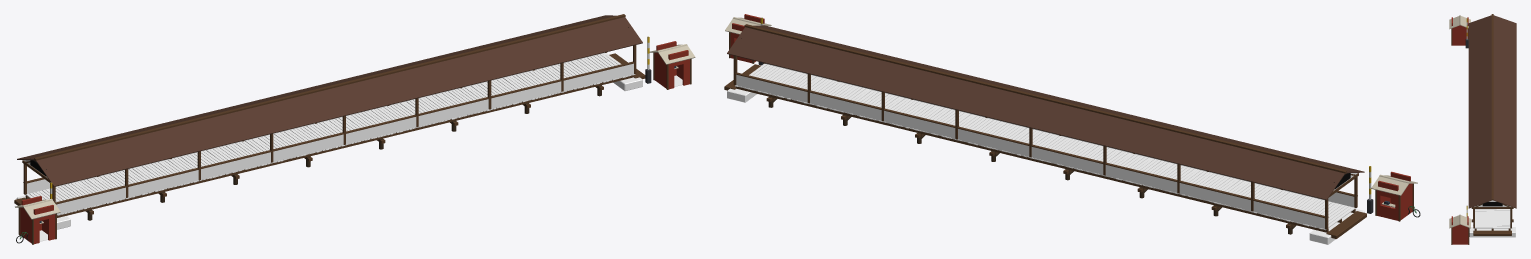
Rendered from tf-bridge-p3.glb.
3 renders of one model, left to right at view 1: azimuth 30°, elevation 25°; view 2: azimuth 150°, elevation 25°; view 3: azimuth 270°, elevation 25°, orthographic. The views are drawn at different scales.
Visible parts, largest first — view 1: tf-bridge-p3; view 2: tf-bridge-p3; view 3: tf-bridge-p3.
Part boxes in pixels (x1,y1,x2,y2): tf-bridge-p3: [14, 14, 695, 244]; tf-bridge-p3: [724, 14, 1420, 244]; tf-bridge-p3: [1449, 14, 1516, 244].
Bounding box in the file's own units: 64.67 × 5.6 × 8.73.
